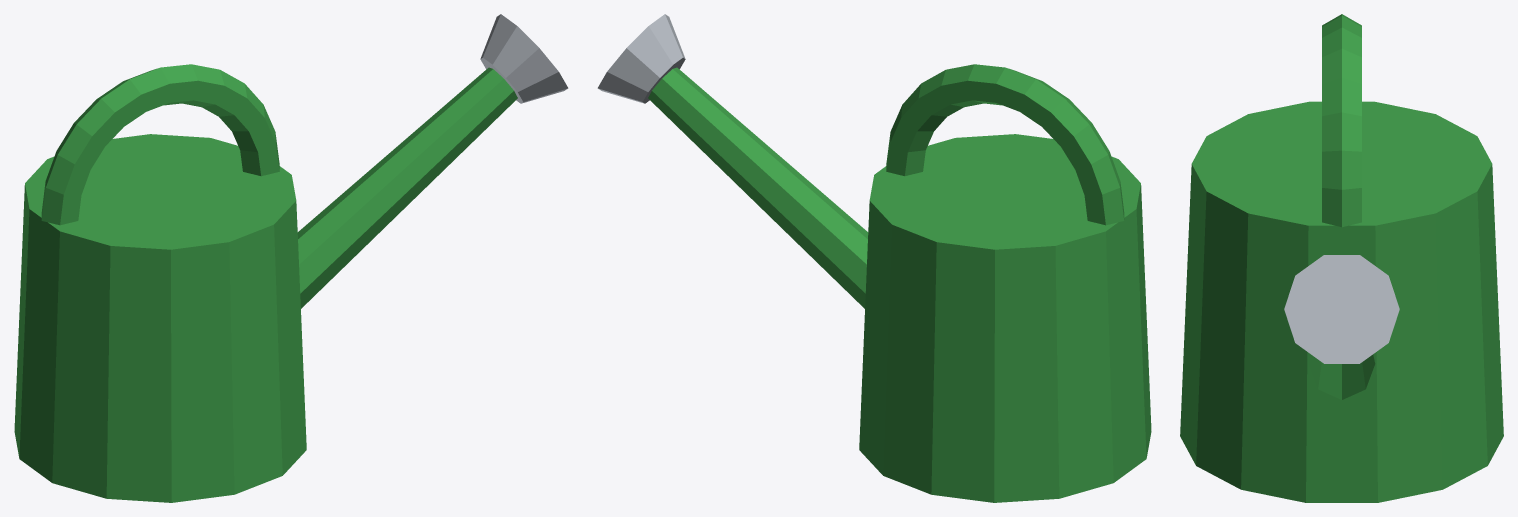
File: watering_can.glb
3 renders of one model, left to right at view 1: azimuth 30°, elevation 25°; view 2: azimuth 150°, elevation 25°; view 3: azimuth 270°, elevation 25°, orthographic. The views are drawn at different scales.
Visible parts, largest first — view 1: tank_can_green, spout_can_green, handle_can_green, rose_can_rose; view 2: tank_can_green, spout_can_green, handle_can_green, rose_can_rose; view 3: tank_can_green, rose_can_rose, handle_can_green, spout_can_green.
Part boxes in pixels (box(x1,y1,x2,y2)): tank_can_green: box(14, 134, 306, 502); spout_can_green: box(297, 67, 517, 308); handle_can_green: box(41, 64, 279, 225); rose_can_rose: box(480, 14, 568, 103); tank_can_green: box(859, 134, 1151, 502); spout_can_green: box(648, 67, 868, 308); handle_can_green: box(886, 64, 1124, 225); rose_can_rose: box(597, 14, 685, 103); tank_can_green: box(1180, 101, 1503, 502); rose_can_rose: box(1284, 255, 1399, 363); handle_can_green: box(1322, 14, 1361, 227); spout_can_green: box(1308, 354, 1375, 399).
Size of the model in its own units: 0.569 by 0.39 by 0.28.
